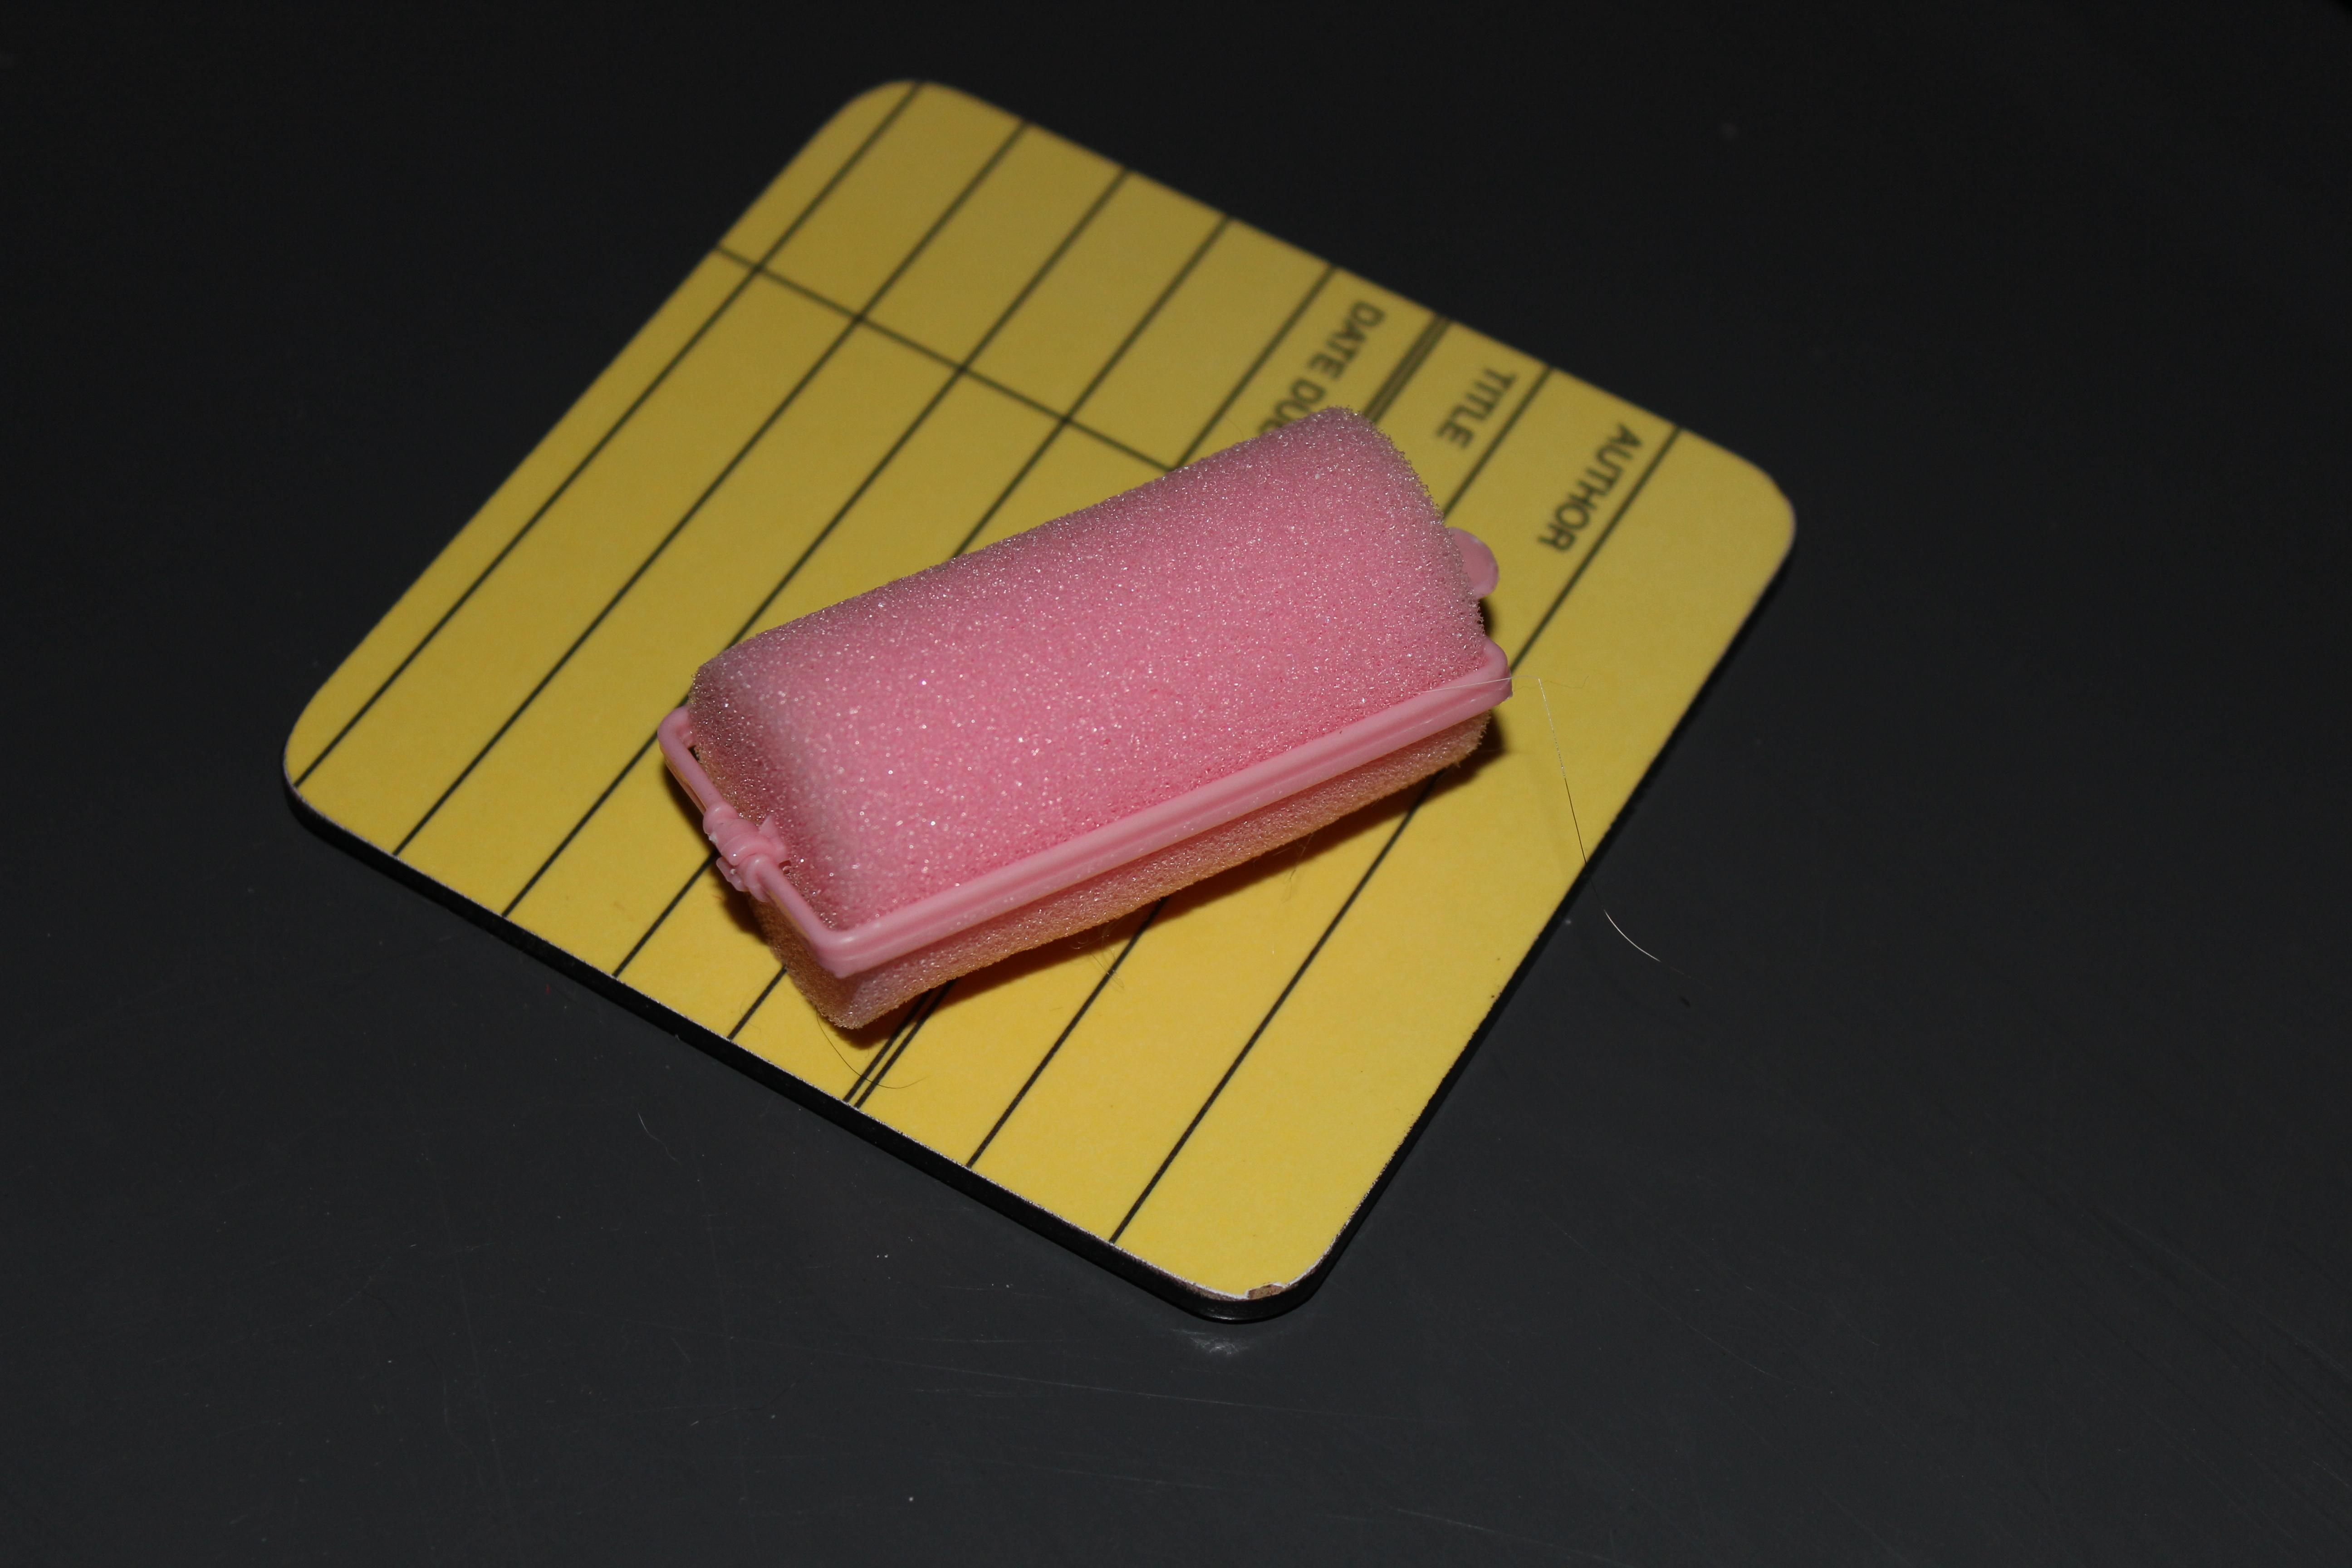hairRoller: (611, 383, 1559, 1089)
